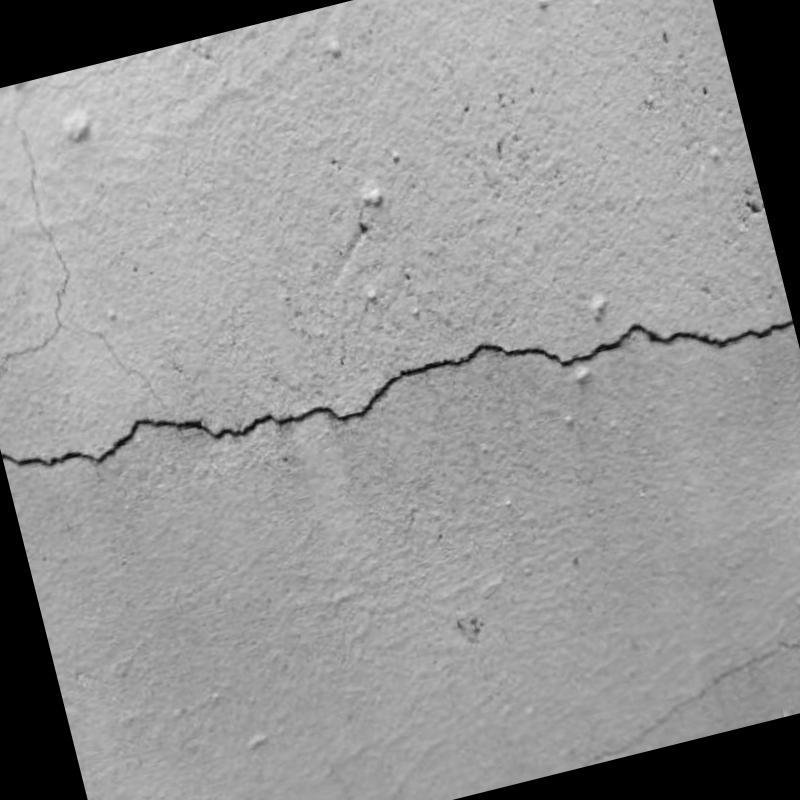pothole: (1, 319, 793, 467)
